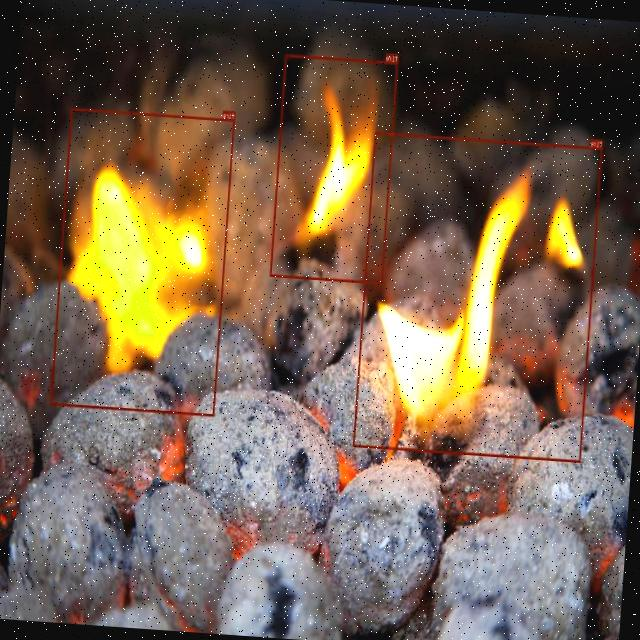fire: (353, 131, 602, 462), (51, 107, 234, 416), (270, 54, 398, 284)
